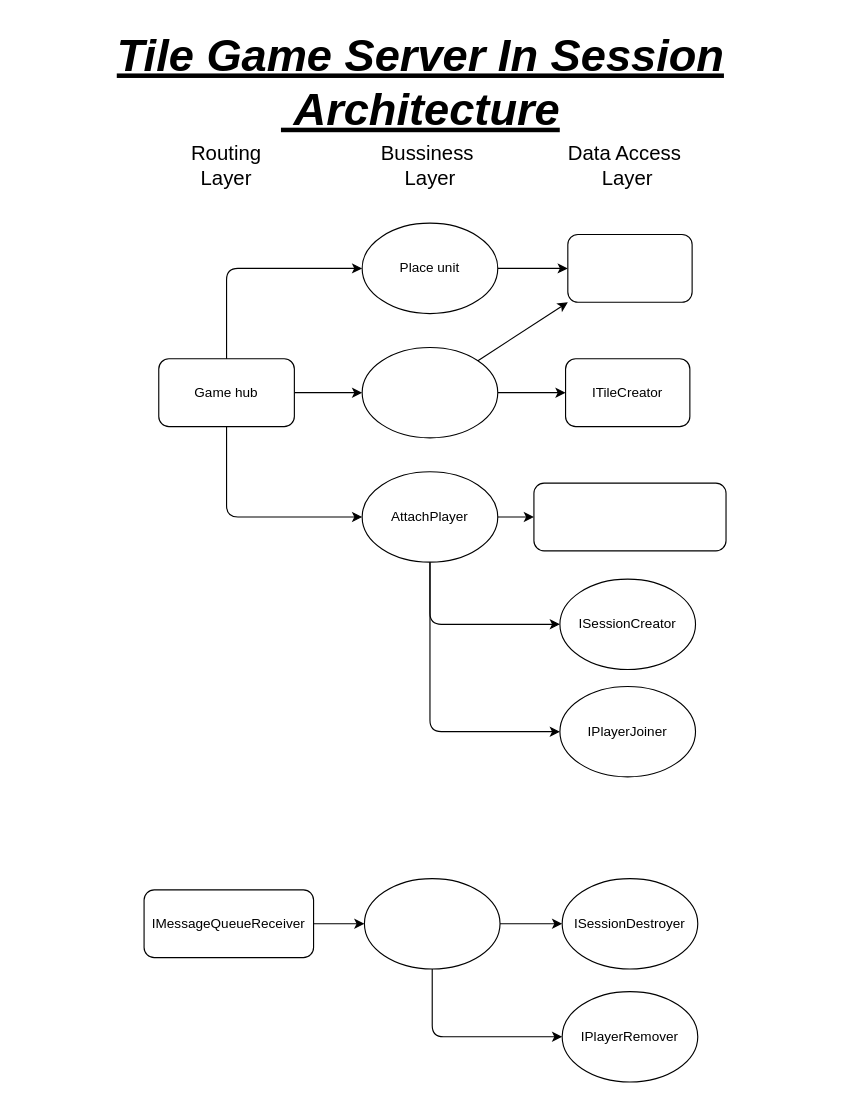
This 841x1102 diagram has some shape labels left out. Each missing label, with the centre of its shape:
"IReadOnlySessionRepository" goes at (x=629, y=516).
"ITileReader" goes at (x=629, y=267).
"Place tile" goes at (x=429, y=392).
"Remove player from session" goes at (x=431, y=923).
